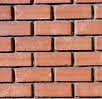brick: (14, 3, 52, 20), (53, 36, 94, 51), (54, 4, 93, 19), (33, 20, 72, 35), (14, 36, 53, 51), (34, 52, 72, 67), (33, 83, 73, 97), (14, 68, 52, 82), (1, 20, 32, 36), (1, 51, 32, 67), (54, 68, 92, 81), (1, 83, 32, 98), (74, 20, 102, 35), (74, 52, 102, 67), (75, 83, 102, 97), (1, 37, 13, 52), (1, 68, 13, 82), (1, 4, 12, 19), (95, 68, 102, 82)
